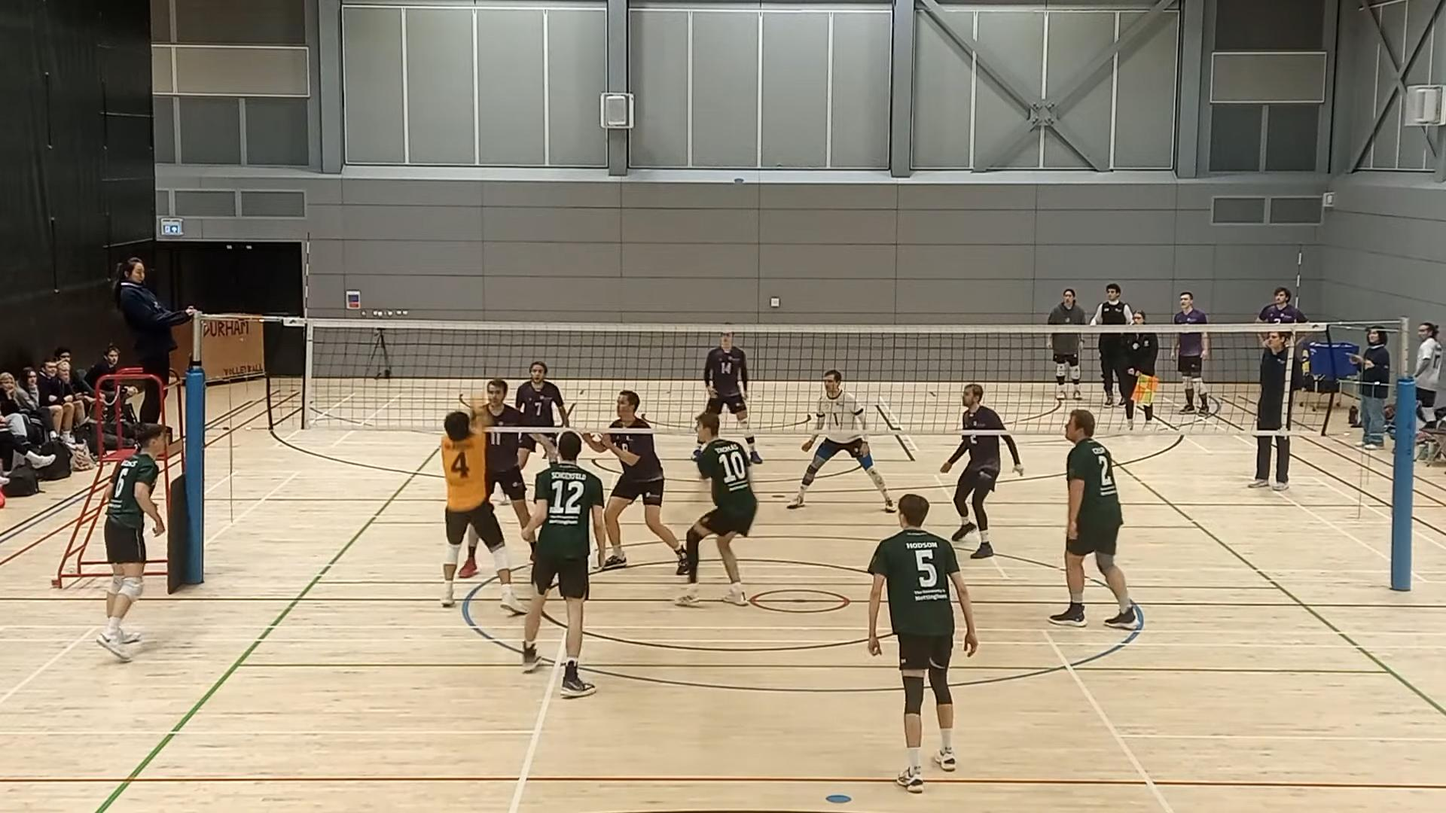alzata: (438, 401, 525, 616)
